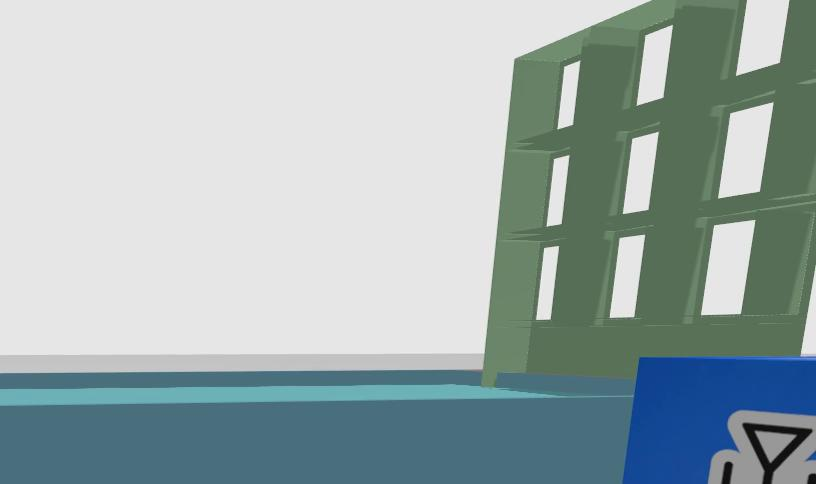KFS_REAL: (609, 354, 815, 484), (707, 411, 815, 484)
